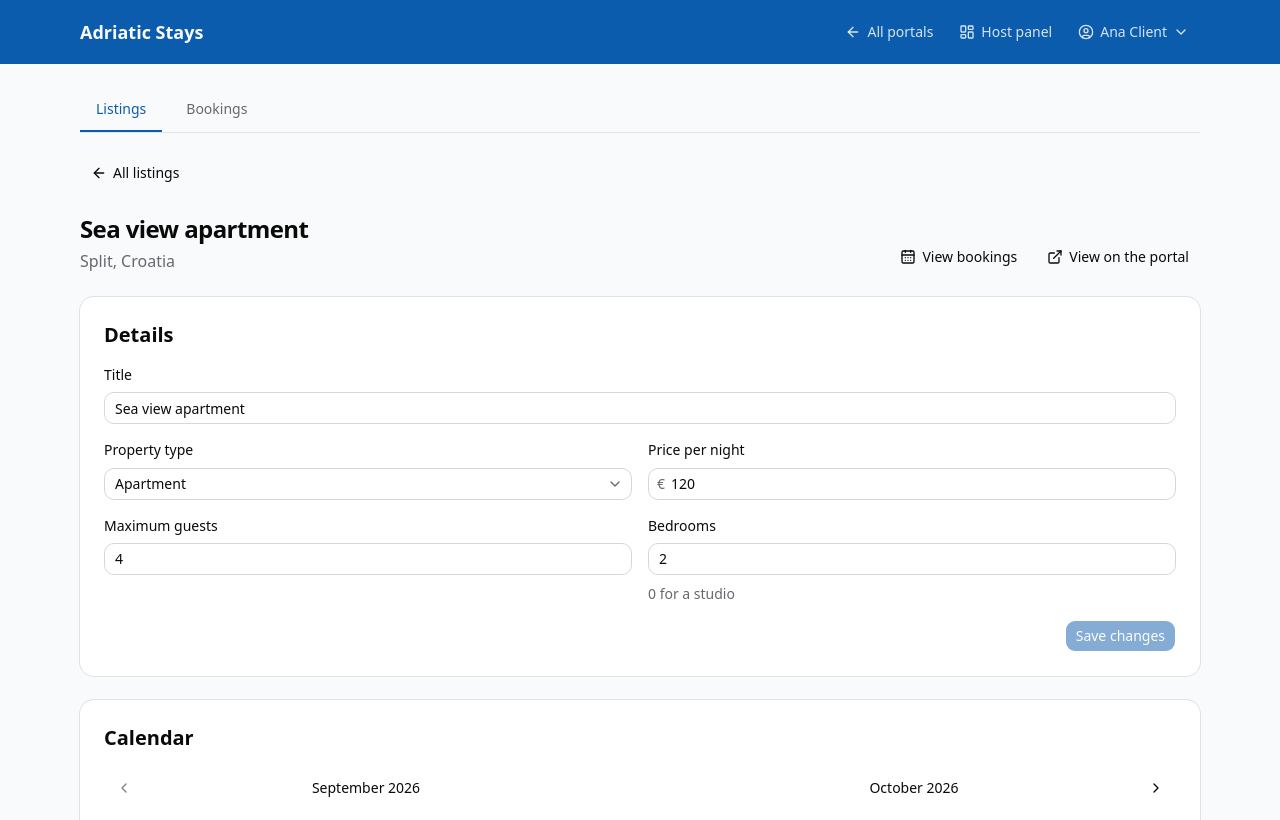
Test: HostListingPage — editor › shows on the guests field that a booking has more guests
The width and height of the screenshot is (1280, 820).
Replace the text in the number field labelled "Maximum guests" with "2" at (368, 559), box [104,543,632,575]
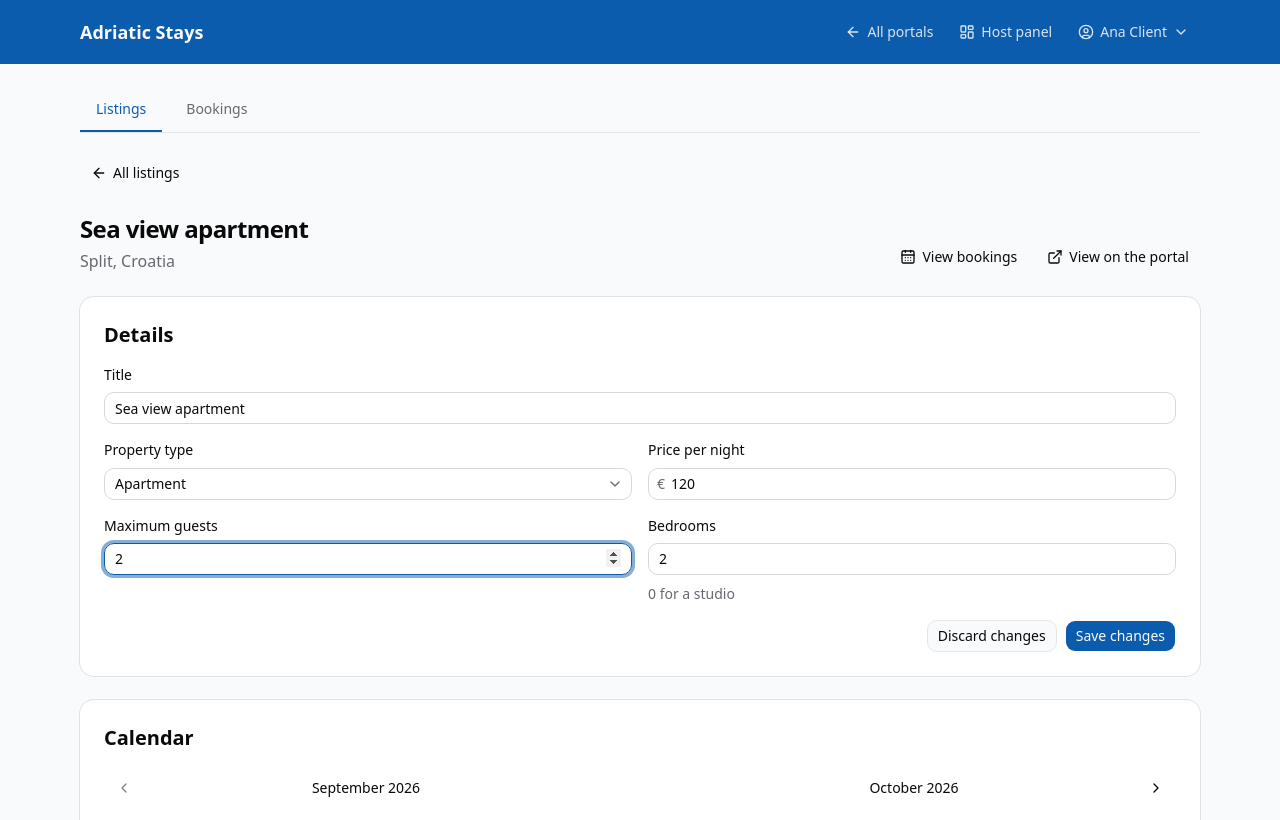
Click the button "Save changes" at (1120, 636), box [1065,620,1176,652]
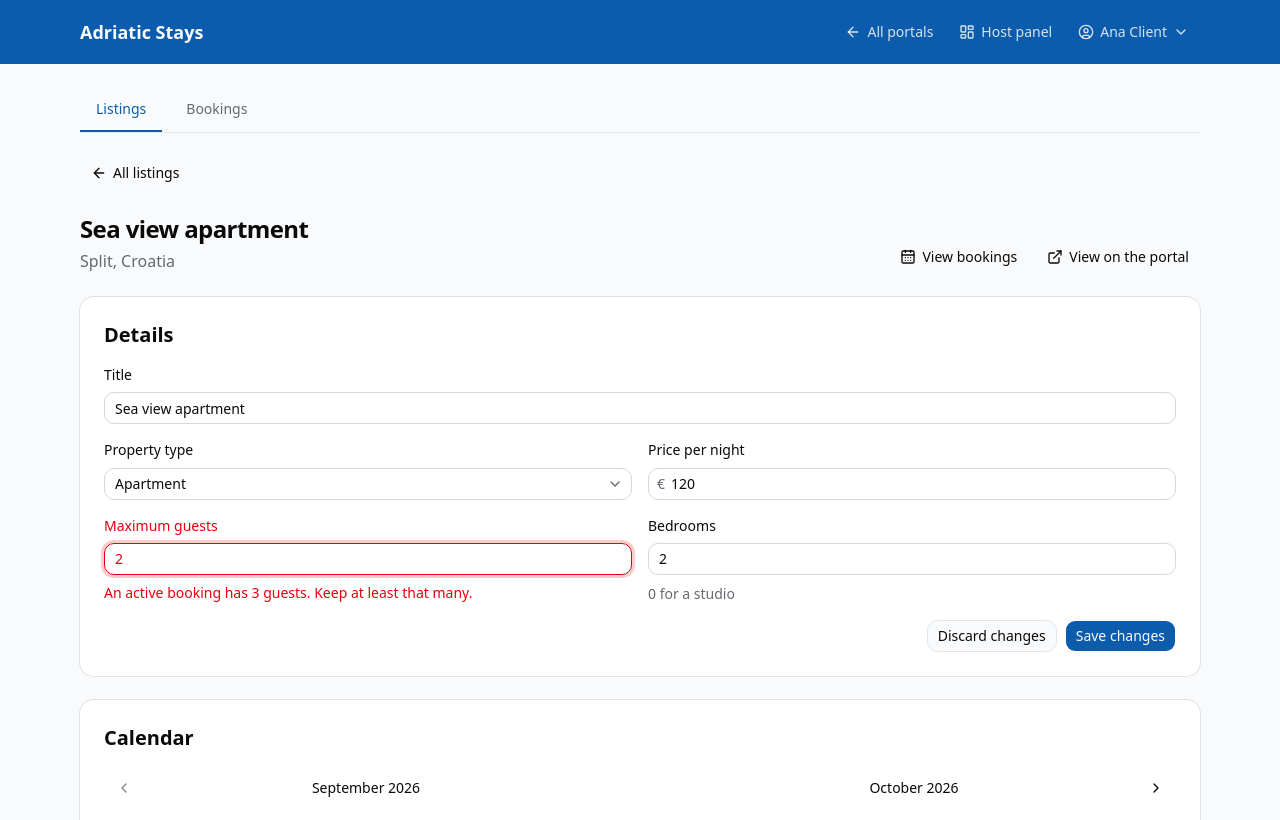
Result: the text "An active booking has 3 guests. Keep at least that many." is shown at [104,583,472,602]
